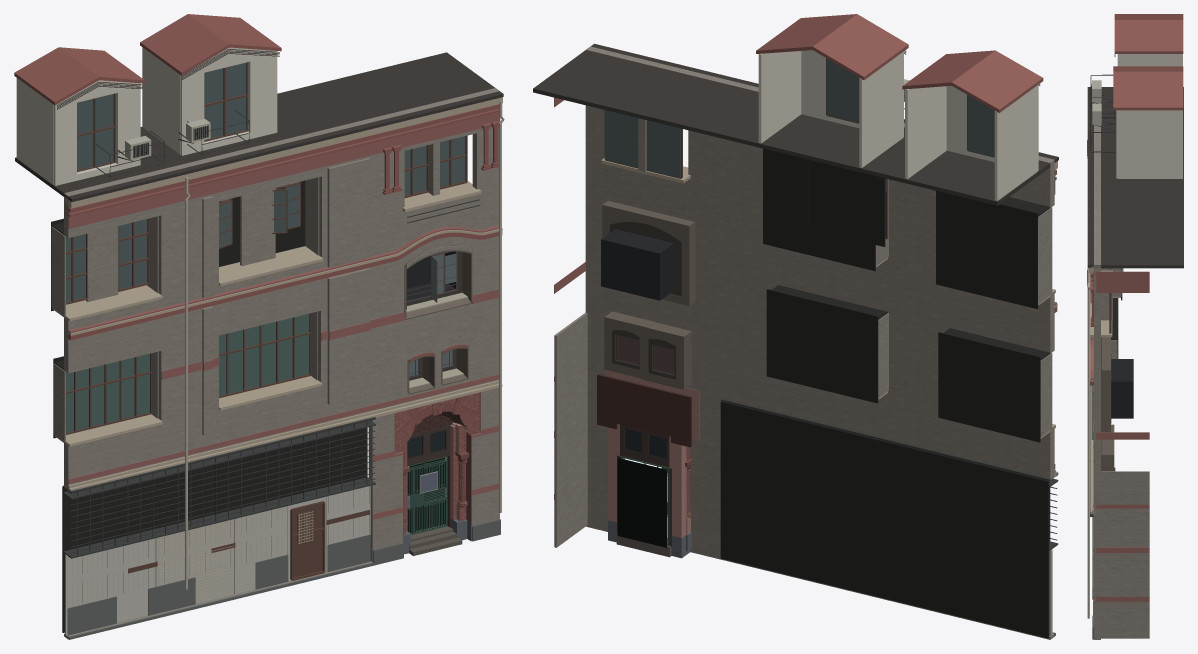
File: huangpu-marconi-beijing-east-131-front-raw.glb
3 views of the same model, side by side, from view 1: azimuth 30°, elevation 25°; view 2: azimuth 150°, elevation 25°; view 3: azimuth 270°, elevation 25° (orthographic). The views are drawn at different scales.
Visible parts, largest first — view 1: 北京东路131号马可尼公司住宅临街立面; view 2: 北京东路131号马可尼公司住宅临街立面; view 3: 北京东路131号马可尼公司住宅临街立面.
Part boxes in pixels (x1,y1,x2,y2): 北京东路131号马可尼公司住宅临街立面: [14, 14, 504, 639]; 北京东路131号马可尼公司住宅临街立面: [533, 14, 1058, 639]; 北京东路131号马可尼公司住宅临街立面: [1087, 14, 1183, 639].
Bounding box in the file's own units: 18.64 × 22.36 × 4.26.
Materials: 53 (1 with a texture image).
